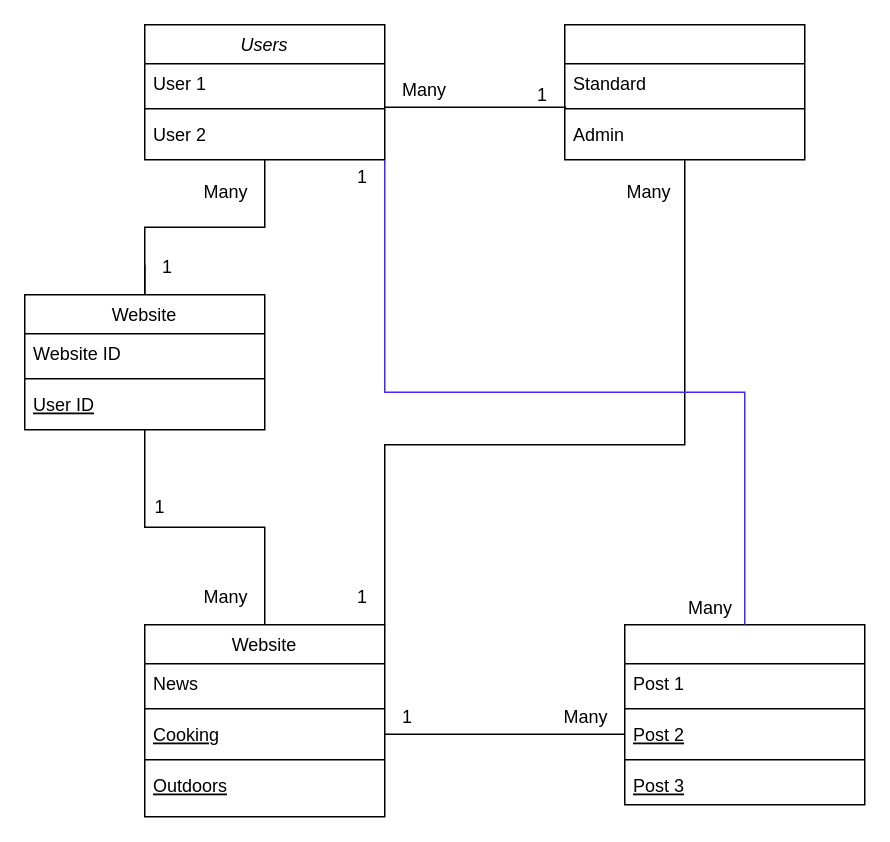
The diagram is 890 pixels wide and 842 high, and some of its shapes have lost their labels. The shapes that lost their labels are listed below. From the top down, each one's box as (x1, y1, x2, y2) in pixels, then its label:
(563, 23, 805, 160): Account
(623, 623, 865, 805): Posts
